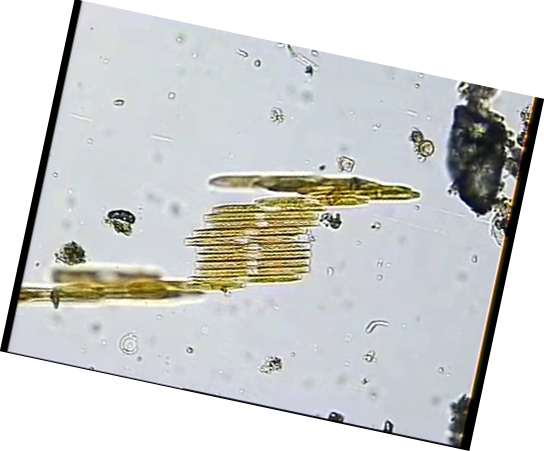Bacillaria: (197, 268, 312, 275), (196, 258, 311, 265), (194, 250, 309, 257), (189, 234, 304, 241), (201, 217, 316, 224), (199, 209, 314, 216), (249, 195, 364, 202)
